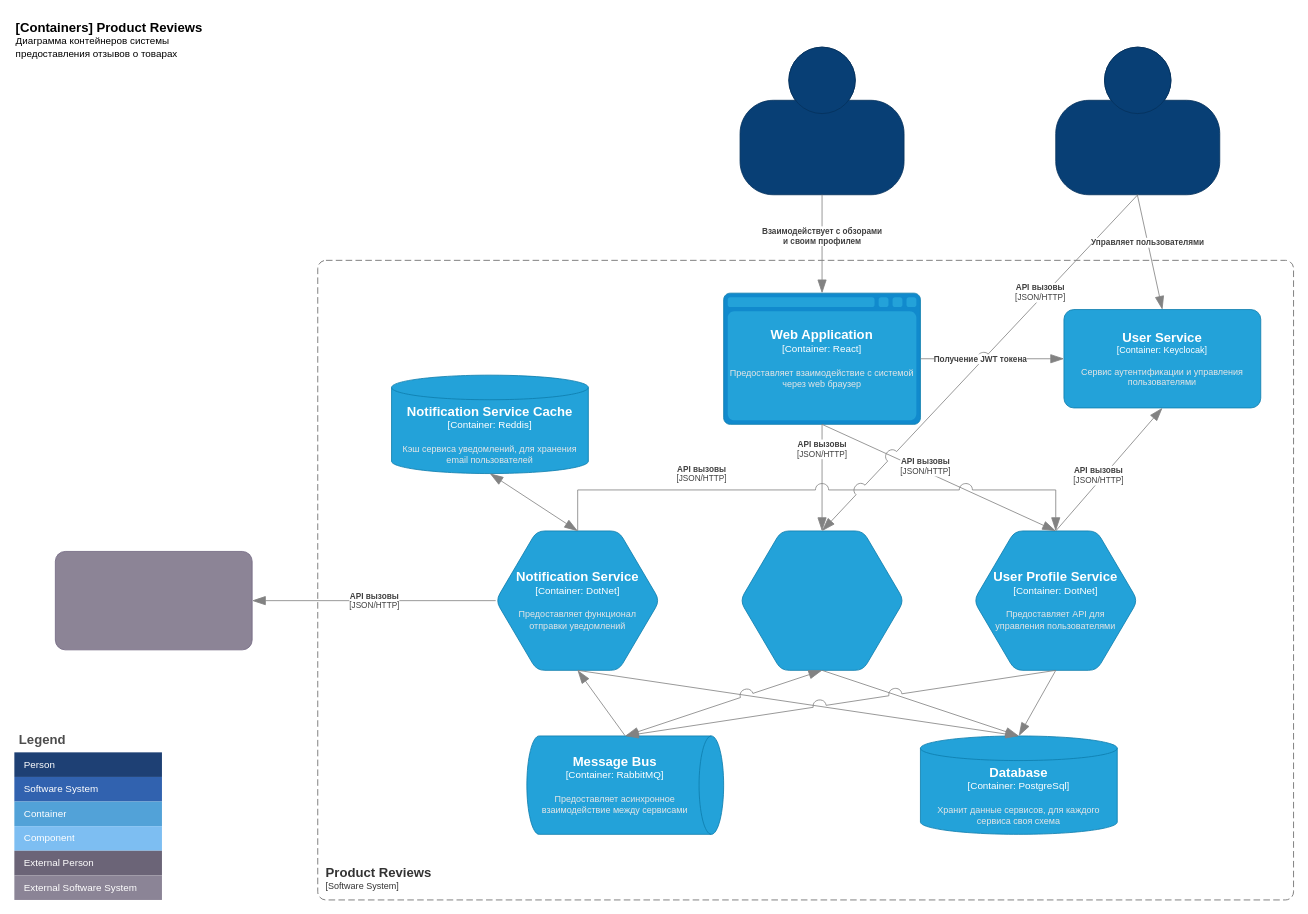
Image size: 1308x914. Some labels were removed from this diagram. The centre of each missing label's shape, as x and y in pixels:
"Admin User [Person] Администратор системы" belongs at point 1137,120.
"E-mail System [Software System] Почтовая система" belongs at point 153,600.
"Review Service [Container: DotNet] Предоставляет API по управлению обзорами" belongs at point 821,600.
"User [Person] Пользователь системы" belongs at point 821,120.
